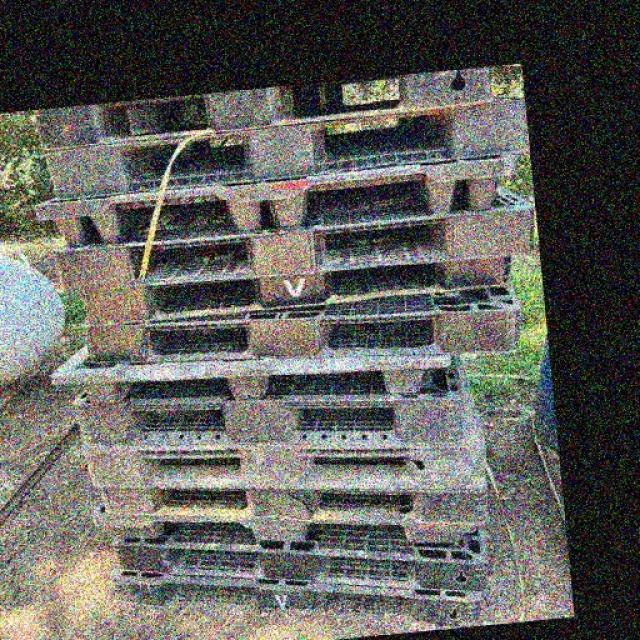non-igps: (44, 178, 548, 307), (26, 141, 527, 257), (38, 92, 516, 209), (29, 57, 504, 163), (77, 271, 534, 376), (73, 240, 522, 337), (78, 398, 501, 499), (66, 382, 472, 460), (105, 522, 498, 602), (103, 557, 492, 636), (45, 334, 457, 408), (86, 495, 483, 554), (86, 474, 498, 529)
